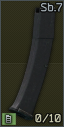Saiga-9 9x19 10-round magazine: (0, 0, 64, 127)
